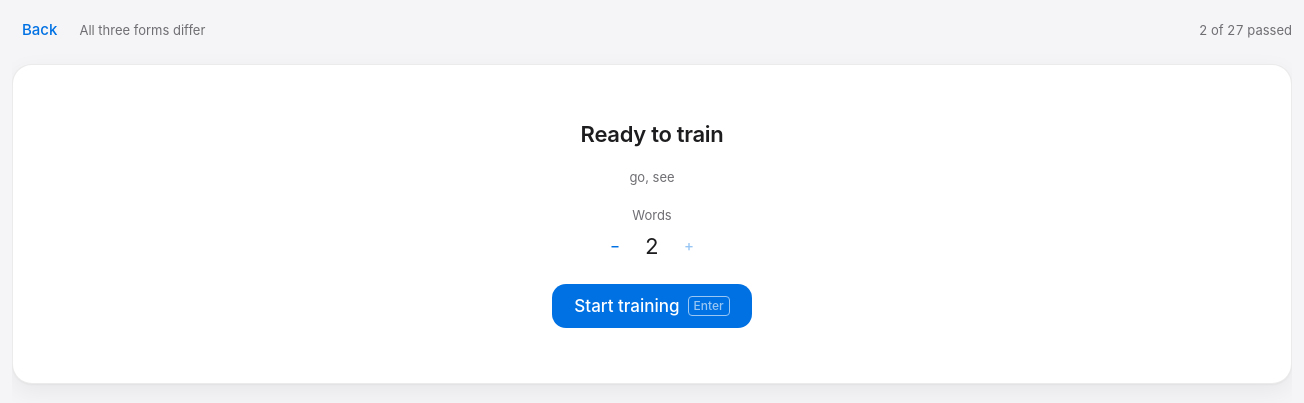
Scenario: VerbDrillScreen › shows the sentence with a blank, the translation and the options
Click the button with class "start-train": (652, 306) [552,284,752,328]
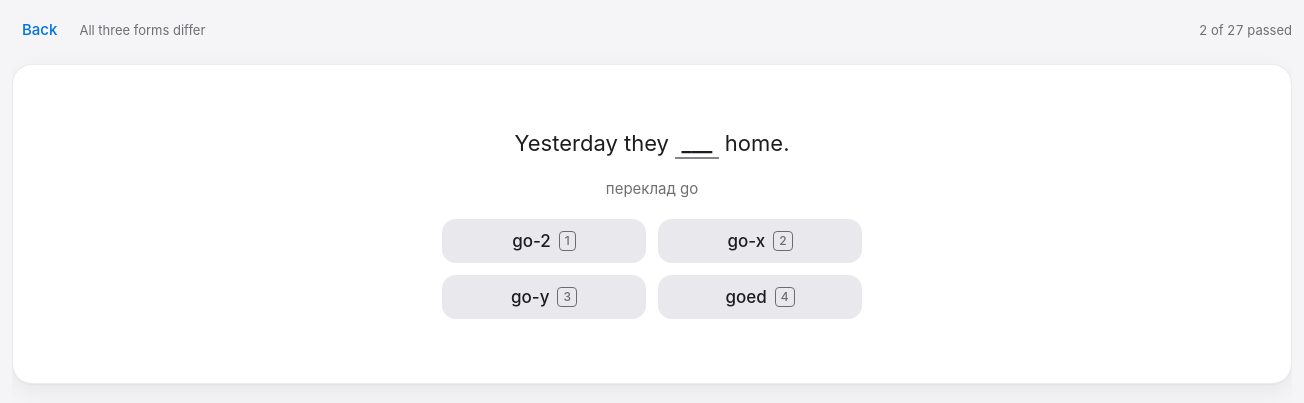
Expected: the element with class "drill-sentence" reads "Yesterday they ___ home.", [514,129,790,159]
Expected: the text "переклад go" is shown, [606,179,698,199]
Expected: the number of buttons with class "drill-option" is 4, [442,219,646,263]; [658,219,862,263]; [442,275,646,319]; [658,275,862,319]
